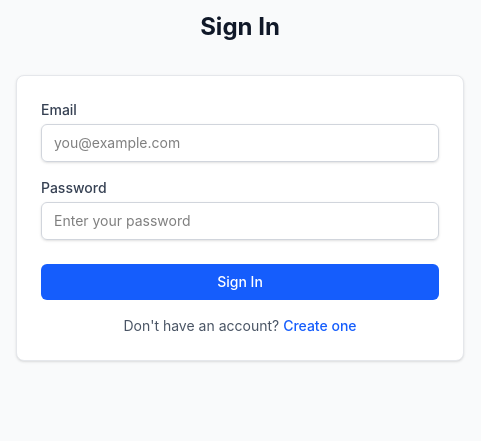
it: LoginPage › shows an error banner on 401 response
Type "a@b.com" into the field labelled "Email" at (240, 143), box x1=41 y1=124 x2=439 y2=162
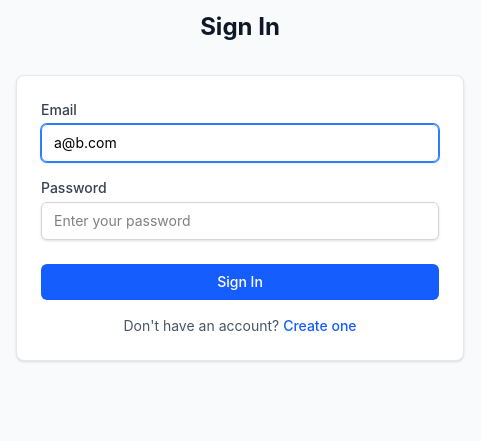
Type "wrong" into the password field labelled "Password" at (240, 221), box x1=41 y1=202 x2=439 y2=240
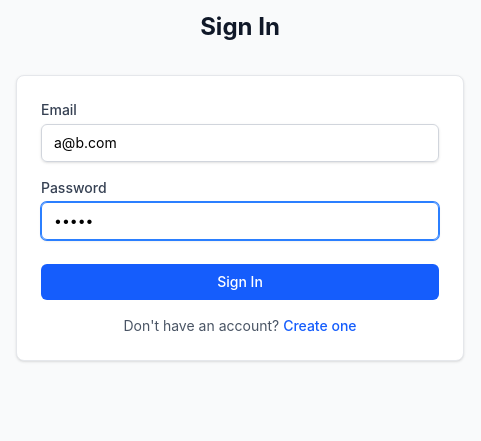
Click the button "Sign In" at (240, 282), box x1=41 y1=264 x2=439 y2=300
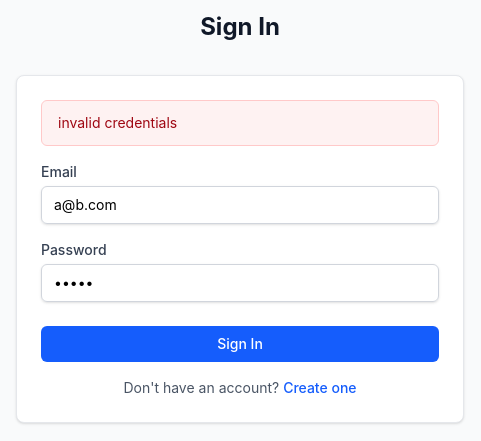
Now the text "invalid credentials" is shown, box x1=41 y1=100 x2=439 y2=146
